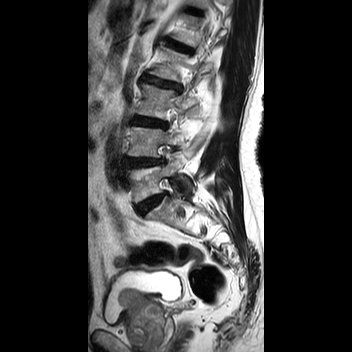RFS0: (145, 139, 181, 169), (149, 170, 181, 203)
